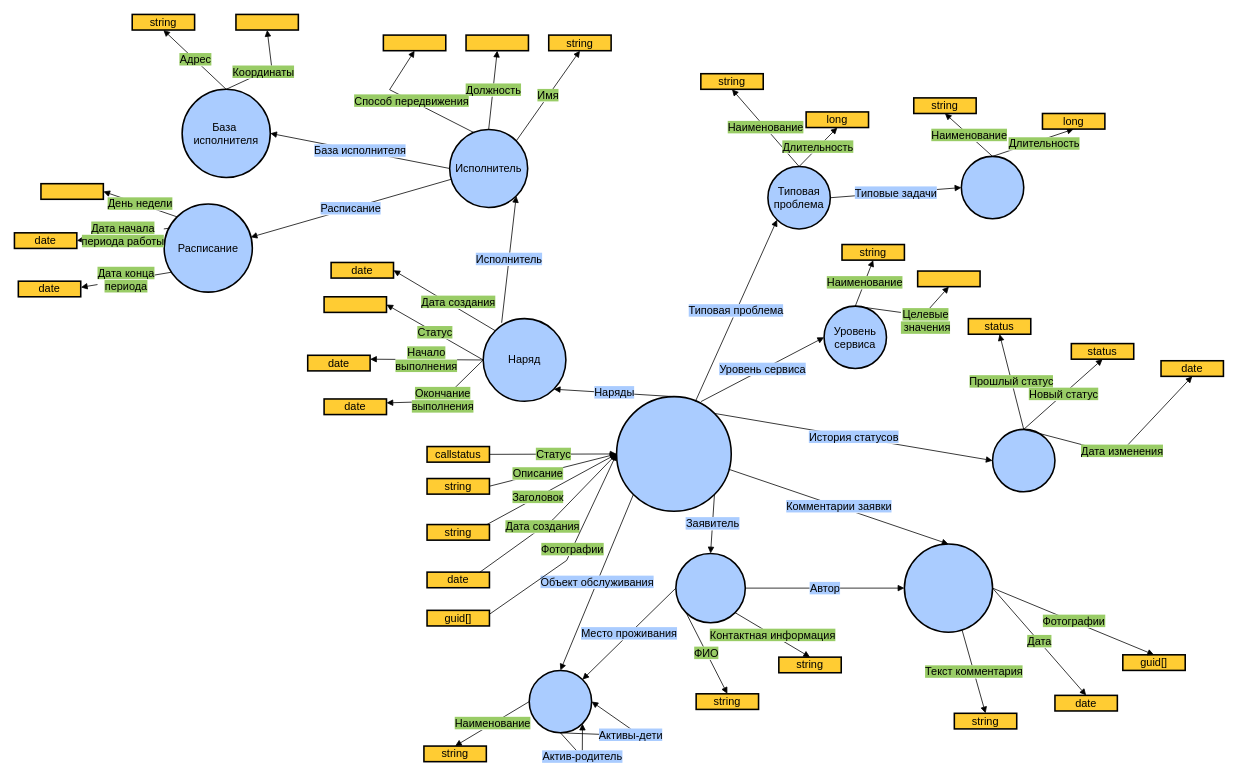
This 1237x777 diagram has some shape labels left out. The shapes that lost their labels are listed below. From the top down, each one's centre as x and y in pixels, then its label:
point 267,21: coordinates
point 414,42: travel
point 497,42: job title
point 72,191: int
point 992,187: Типовая задача
point 948,278: sla
point 355,304: taskstatus
point 673,453: Заявка
point 1023,460: История статуса
point 710,587: Жилец
point 948,588: Комментарии к заявке
point 560,701: Актив
